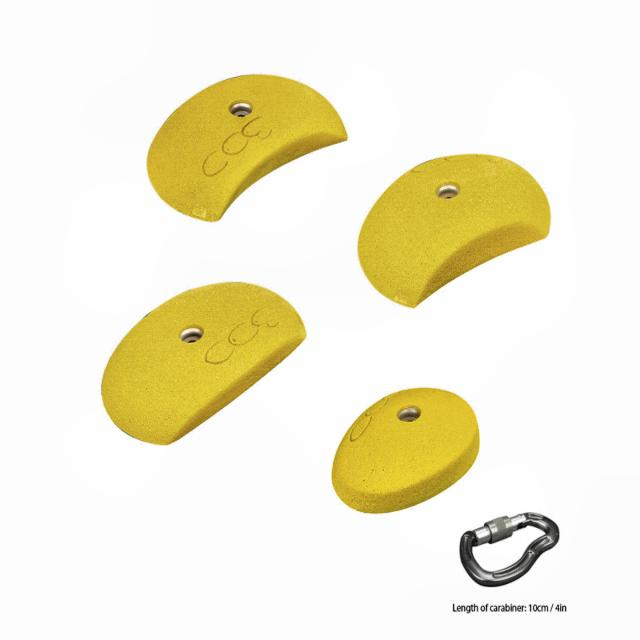Hold: (103, 282, 309, 448), (357, 153, 553, 309), (148, 75, 350, 222), (328, 388, 482, 512)
